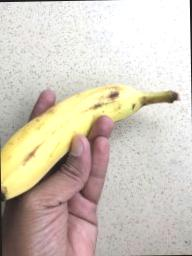Banana Ripe: (0, 79, 179, 202)
